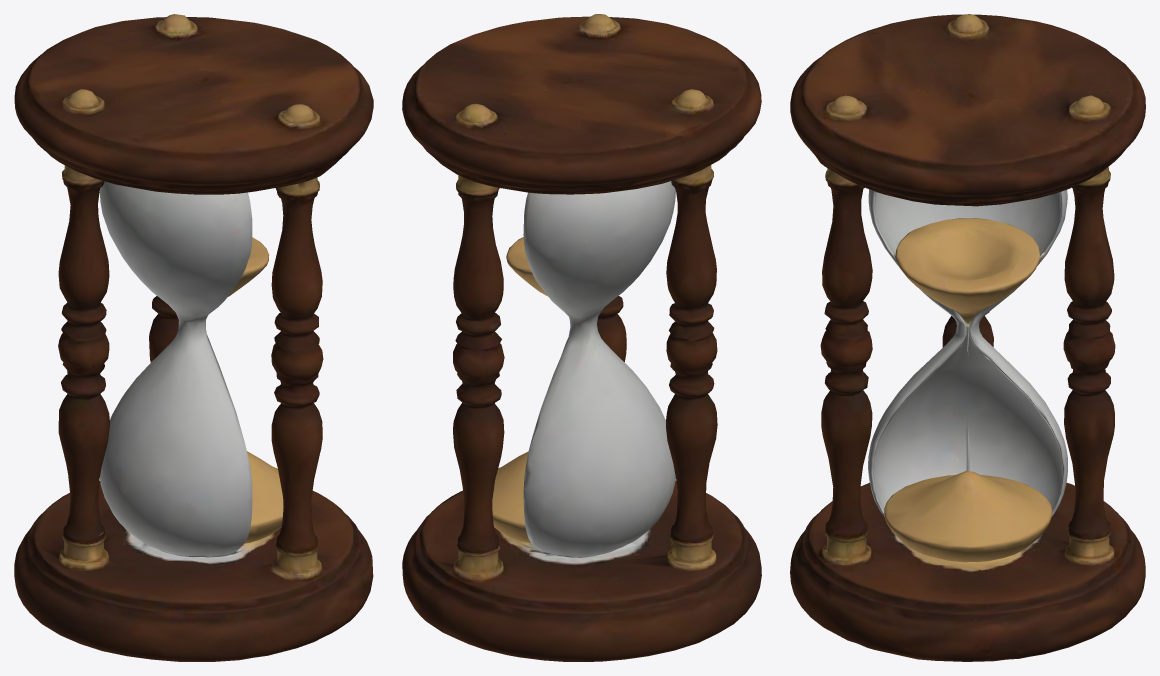
File: history.glb
The picture shows the model from 3 angles, left to right: view 1: azimuth 30°, elevation 25°; view 2: azimuth 150°, elevation 25°; view 3: azimuth 270°, elevation 25°; orthographic projection.
Parts seen in each view (by area): view 1: tripo_node_07ec6465-d6df-4edd-8416-9b616eaf534f; view 2: tripo_node_07ec6465-d6df-4edd-8416-9b616eaf534f; view 3: tripo_node_07ec6465-d6df-4edd-8416-9b616eaf534f.
Part boxes in pixels (x1,y1,x2,y2): tripo_node_07ec6465-d6df-4edd-8416-9b616eaf534f: (14, 14, 373, 661); tripo_node_07ec6465-d6df-4edd-8416-9b616eaf534f: (402, 14, 761, 661); tripo_node_07ec6465-d6df-4edd-8416-9b616eaf534f: (790, 14, 1145, 661).
Bounding box in the file's own units: 0.6185 × 1 × 0.6157.
1 material, 1 textured.
